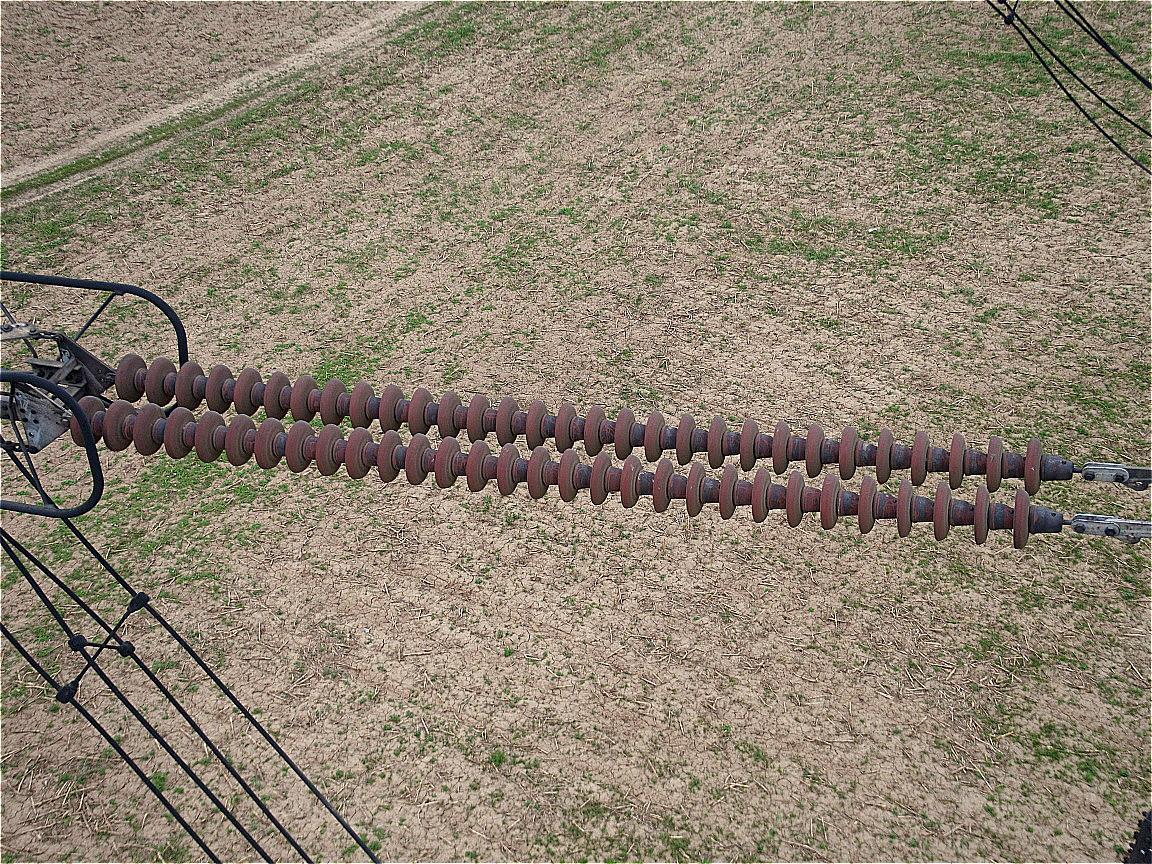insultor1: (70, 350, 1045, 549)
